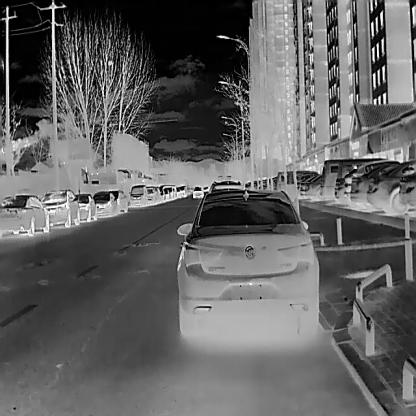car: (176, 190, 319, 337), (366, 159, 415, 213), (0, 194, 49, 236), (350, 161, 398, 200), (40, 189, 80, 227), (319, 158, 338, 199), (74, 193, 96, 221), (92, 193, 117, 216), (128, 184, 147, 206), (108, 189, 126, 212), (304, 175, 321, 193), (145, 186, 160, 204), (192, 186, 203, 198)
